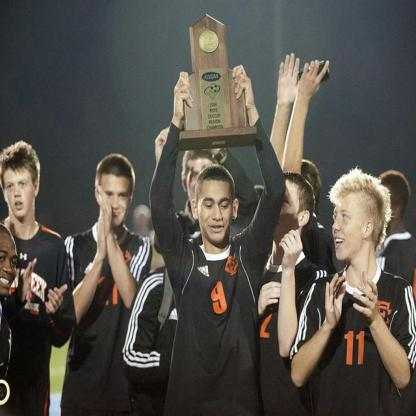face: (200, 182, 234, 244), (335, 196, 364, 259), (100, 176, 130, 227), (270, 182, 298, 235), (5, 166, 35, 215), (188, 158, 215, 205)
